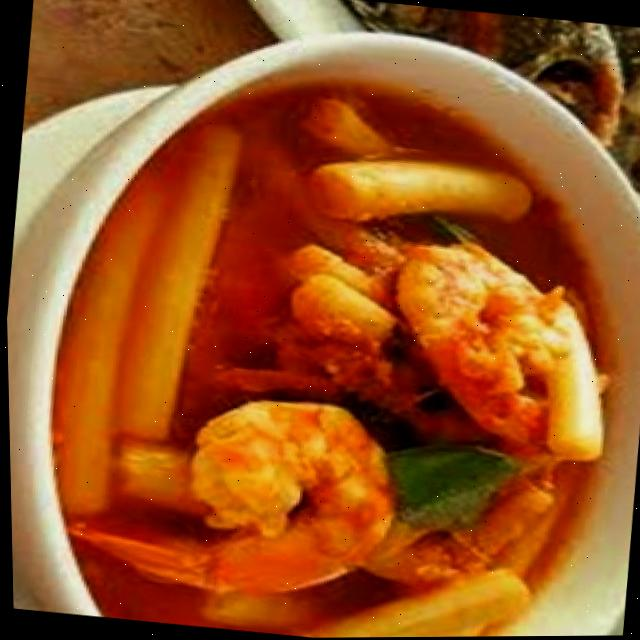汤锅炖物: (1, 38, 640, 640)
